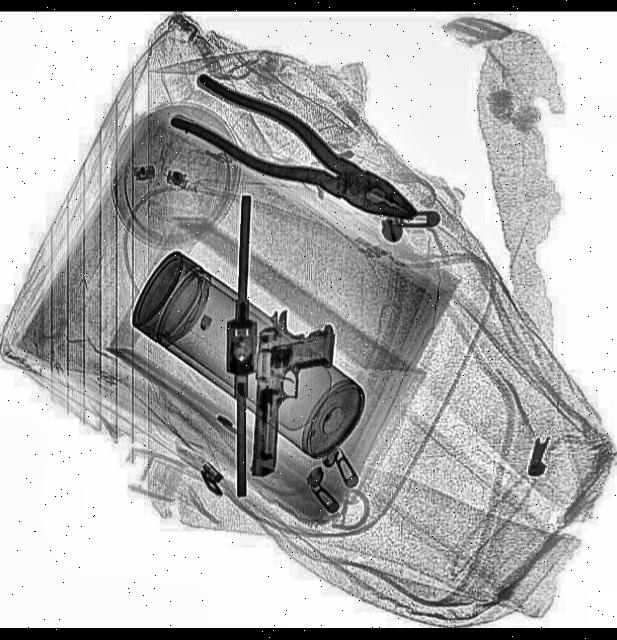Gun: (252, 307, 338, 483)
Pliers: (168, 66, 433, 249)
